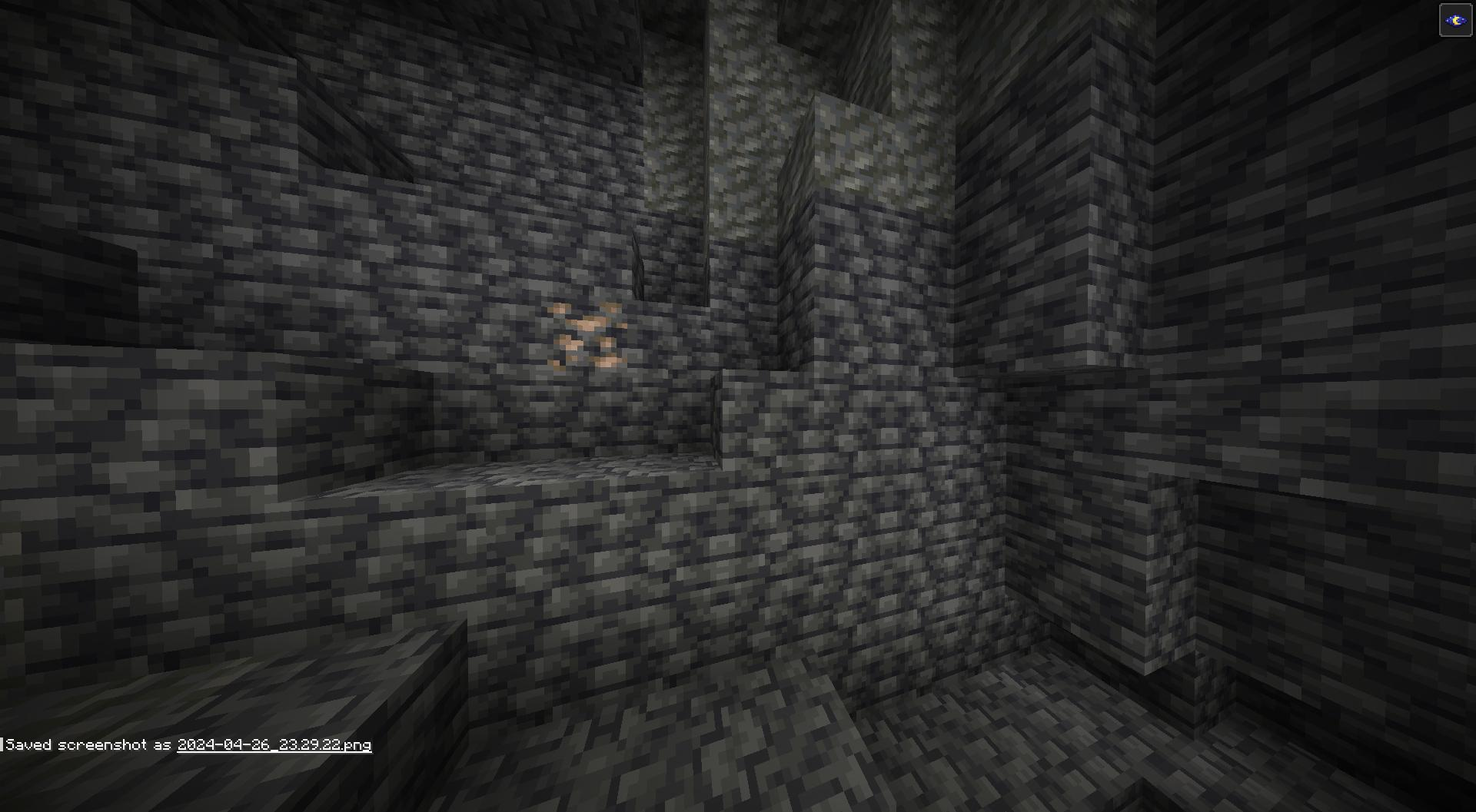iron ore: (536, 299, 626, 369)
